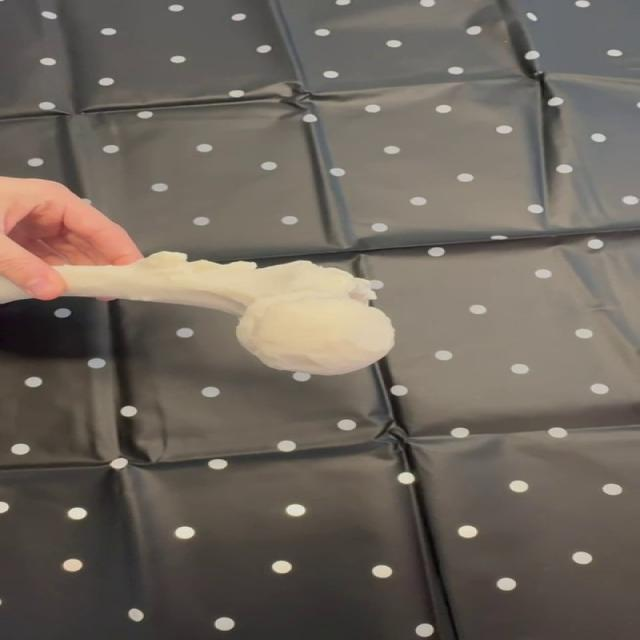bones: (56, 253, 394, 375)
